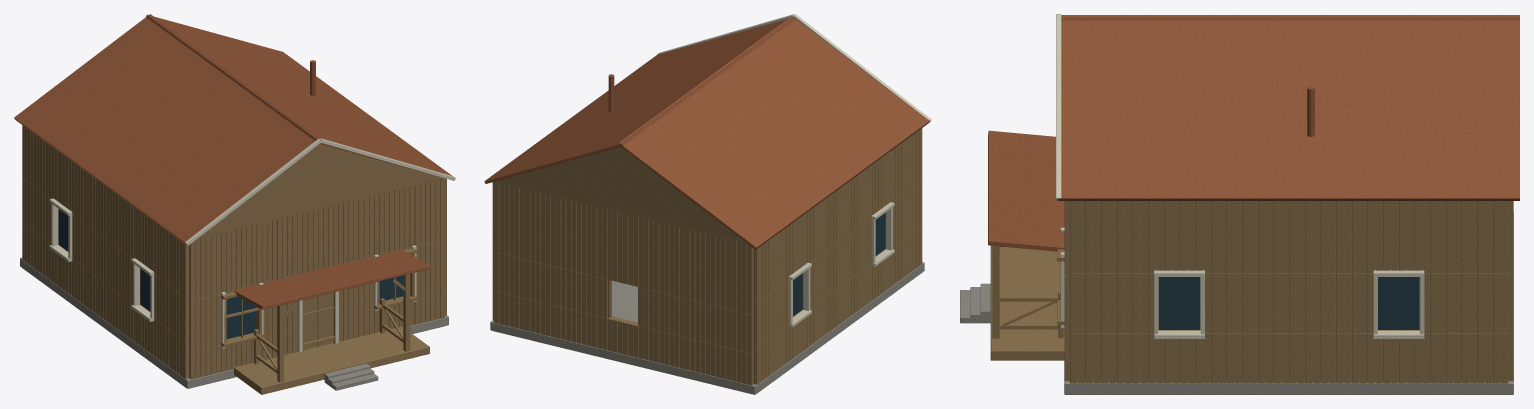
Rendered from RUSTICA2_lod1.glb.
3 renders of one model, left to right at view 1: azimuth 30°, elevation 25°; view 2: azimuth 150°, elevation 25°; view 3: azimuth 270°, elevation 25°, orthographic. The views are drawn at different scales.
Visible parts, largest first — view 1: RUSTICA2_LOD1; view 2: RUSTICA2_LOD1; view 3: RUSTICA2_LOD1.
Part boxes in pixels (x1,y1,x2,y2): RUSTICA2_LOD1: [14, 14, 455, 394]; RUSTICA2_LOD1: [484, 14, 931, 394]; RUSTICA2_LOD1: [960, 14, 1519, 394].
Bounding box in the file's own units: 9.51 × 7.42 × 12.76.
8 materials, 6 textured.
